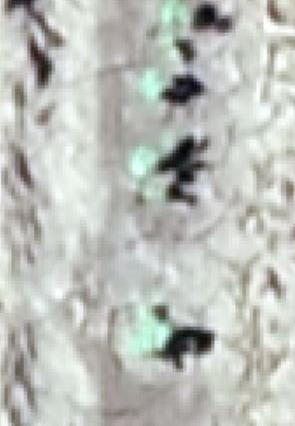cotton: (133, 313, 171, 351), (127, 151, 156, 177), (162, 2, 187, 26), (143, 71, 163, 98), (160, 36, 181, 60)
